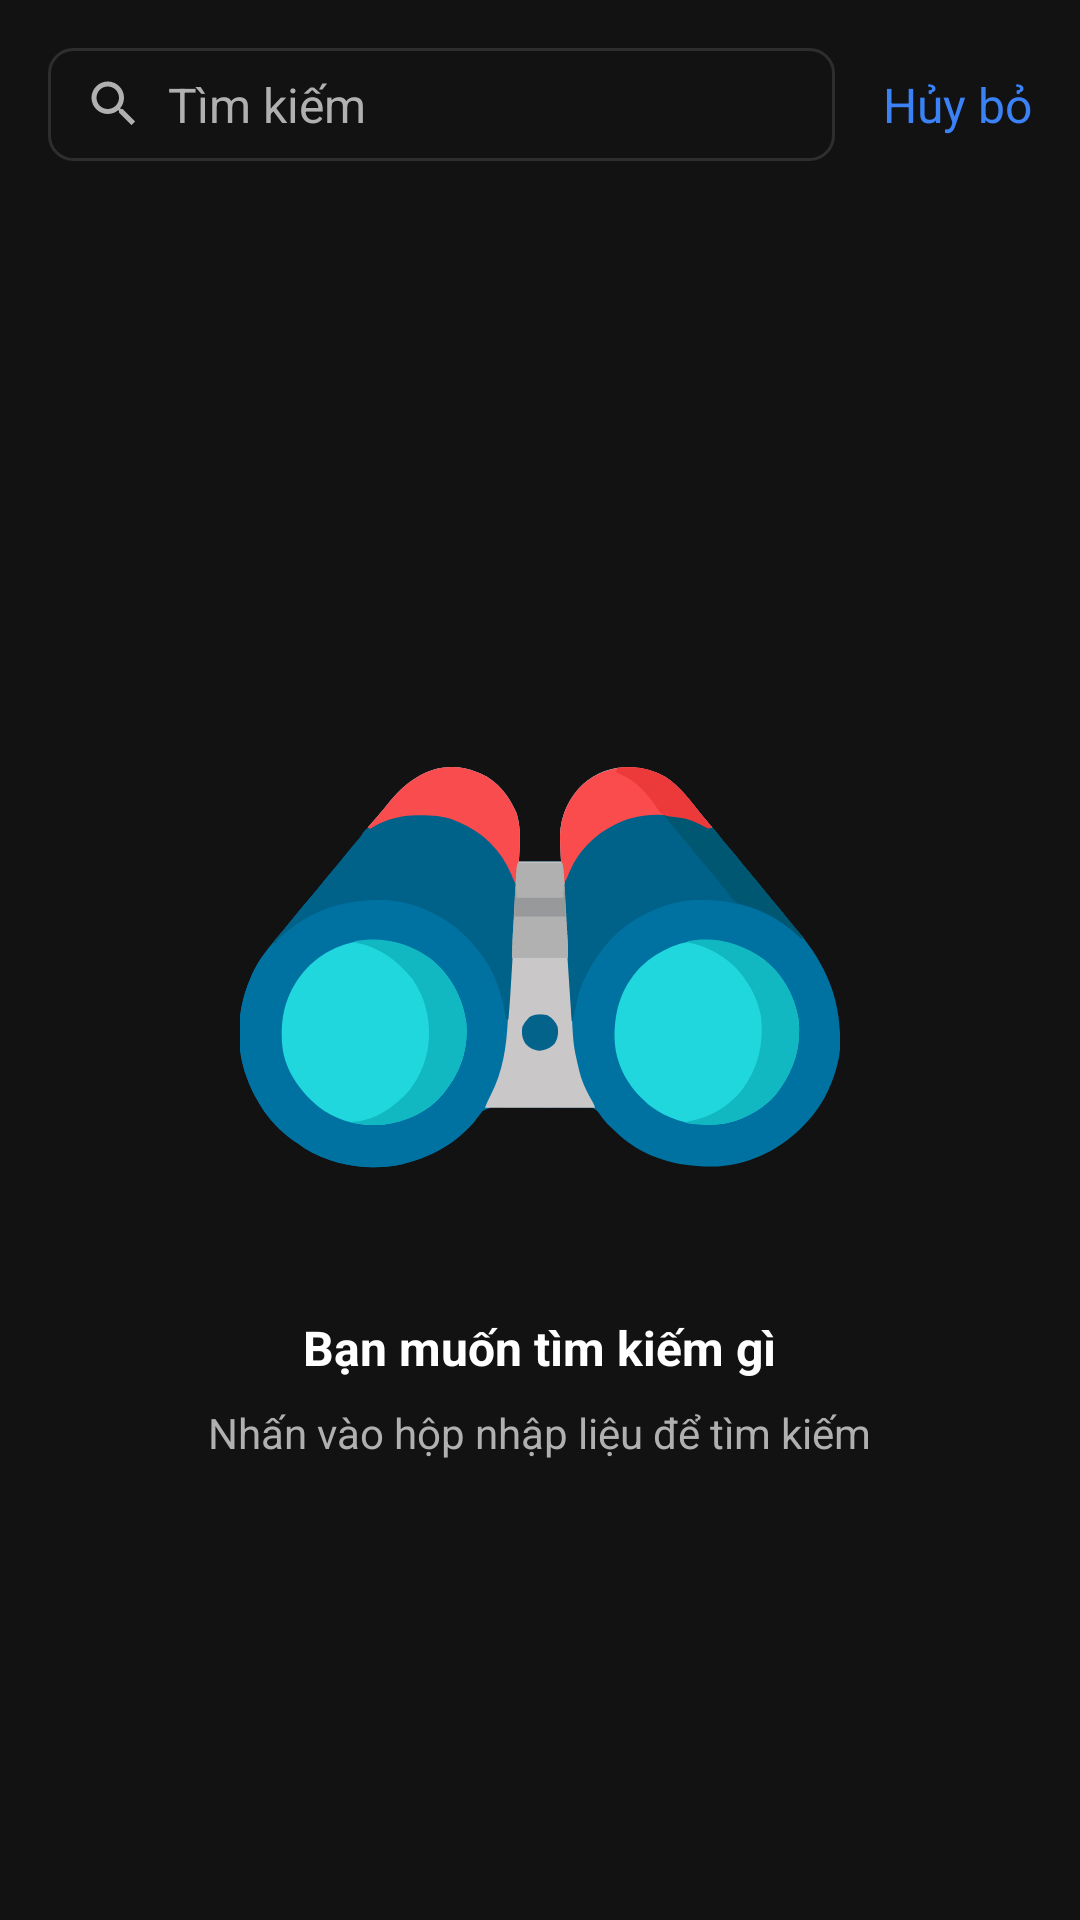

Icon click points for this 1080px x 1920px phone screenshot, format (x=x, y=y):
search: (x=113, y=103)
